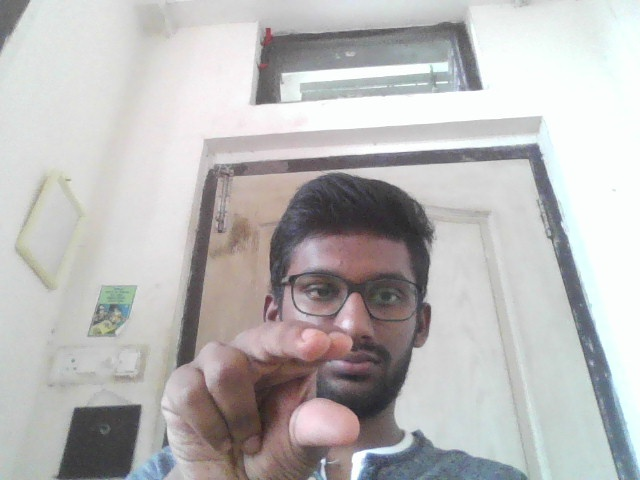No: (157, 319, 365, 480)
